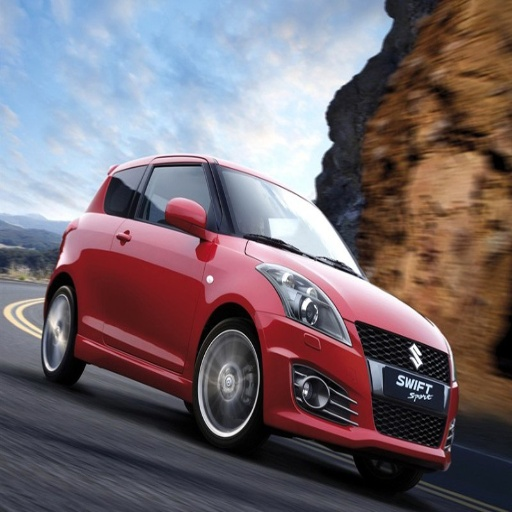front_bumper: (261, 318, 459, 461)
front_right_door: (110, 167, 213, 378)
front_right_light: (258, 266, 356, 347)
